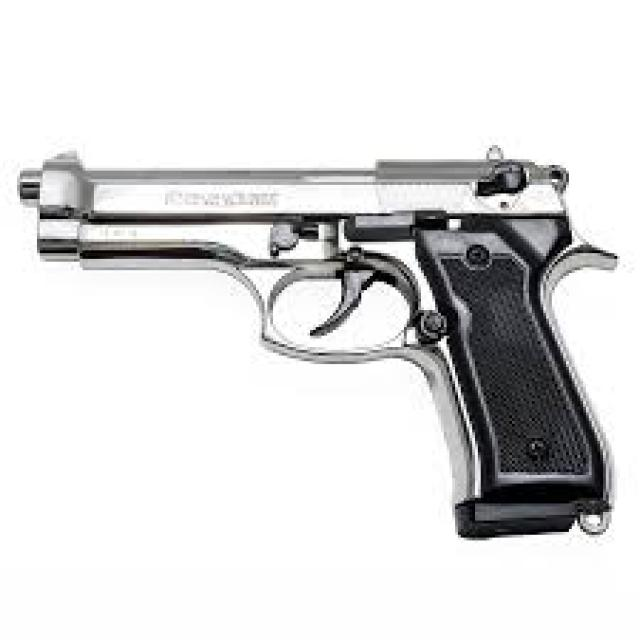pistol: (1, 132, 621, 547)
